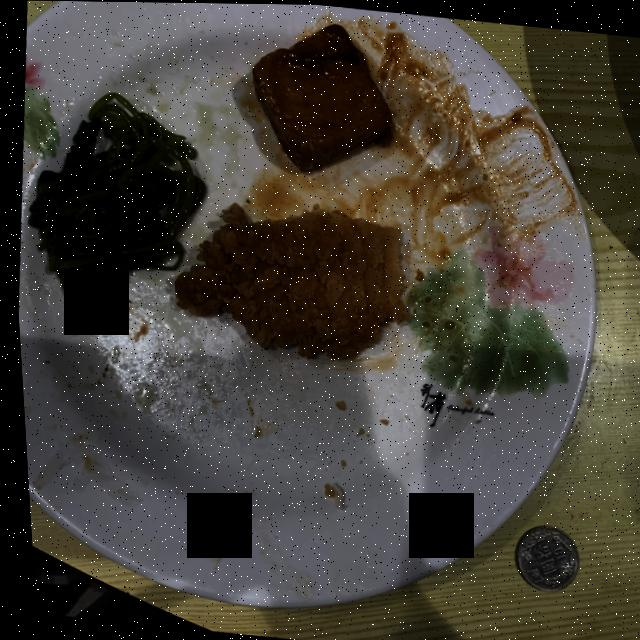coin: (507, 523, 572, 588)
creamy tofu: (251, 22, 390, 169)
fried chicken cutlet: (171, 202, 403, 357)
sweet potato leaves: (25, 92, 201, 305)
